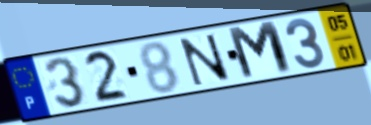2: (83, 48, 132, 106)
3: (42, 55, 90, 111), (284, 16, 327, 71)
8: (137, 39, 182, 95)
M: (224, 19, 297, 83)
N: (176, 32, 235, 88)
